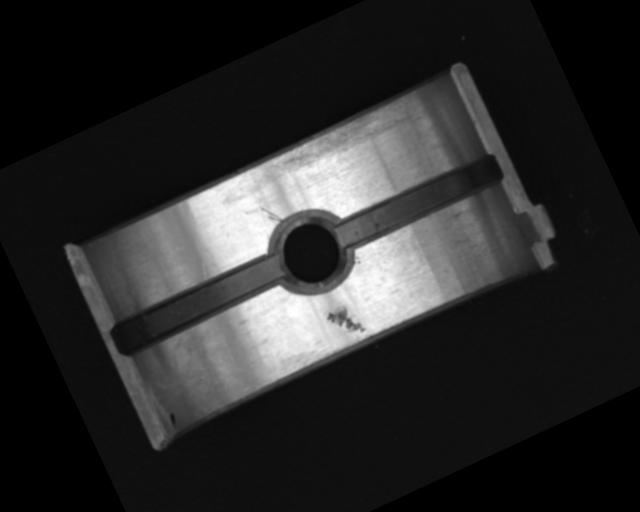blot: (164, 410, 181, 429)
bruise: (322, 296, 368, 344)
gap: (107, 248, 291, 358), (331, 148, 507, 254)
hole: (259, 199, 363, 302)
nick: (260, 201, 284, 228)
scratch: (264, 87, 424, 186)
